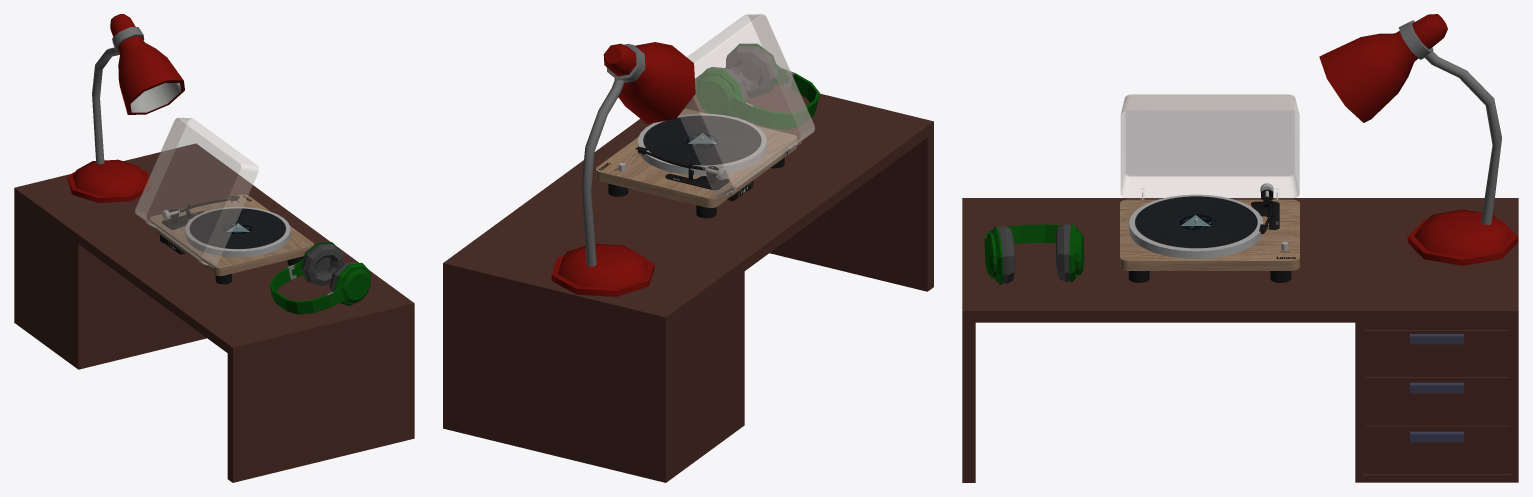
The model's file is RecordPlayer.glb.
The picture shows the model from 3 angles, left to right: view 1: azimuth 30°, elevation 25°; view 2: azimuth 150°, elevation 25°; view 3: azimuth 270°, elevation 25°; orthographic projection. The views are drawn at different scales.
Visible parts, largest first — view 1: Desk, DustCover, Light_Desk, Headphones_Cube, Base, VinylDisk, VinylBase; view 2: Desk, DustCover, Light_Desk, Headphones_Cube, Base, VinylDisk, VinylBase, PickupBaseAttachment, Pickup, Feet; view 3: Desk, DustCover, Light_Desk, Base, VinylDisk, Headphones_Cube, VinylBase.
Boxes of the visible parts, x1=… form: Desk: x1=14, y1=143, x2=414, y2=482; DustCover: x1=135, y1=118, x2=258, y2=267; Light_Desk: x1=67, y1=14, x2=184, y2=202; Headphones_Cube: x1=269, y1=242, x2=370, y2=314; Base: x1=150, y1=194, x2=313, y2=275; VinylDisk: x1=189, y1=208, x2=285, y2=248; VinylBase: x1=185, y1=207, x2=290, y2=257; Desk: x1=443, y1=67, x2=933, y2=482; DustCover: x1=679, y1=14, x2=814, y2=198; Light_Desk: x1=551, y1=42, x2=695, y2=296; Headphones_Cube: x1=696, y1=43, x2=819, y2=129; Base: x1=596, y1=108, x2=797, y2=207; VinylDisk: x1=643, y1=115, x2=761, y2=165; VinylBase: x1=638, y1=113, x2=766, y2=175; PickupBaseAttachment: x1=665, y1=162, x2=729, y2=190; Pickup: x1=635, y1=147, x2=727, y2=180; Feet: x1=608, y1=157, x2=784, y2=218; Desk: x1=962, y1=198, x2=1518, y2=482; DustCover: x1=1121, y1=94, x2=1299, y2=199; Light_Desk: x1=1319, y1=14, x2=1517, y2=265; Base: x1=1120, y1=199, x2=1299, y2=270; VinylDisk: x1=1135, y1=196, x2=1257, y2=248; Headphones_Cube: x1=984, y1=224, x2=1084, y2=284; VinylBase: x1=1129, y1=194, x2=1263, y2=258.
Bounding box in the file's own units: 0.6222 × 1.01 × 1.27.
22 materials, 9 textured.
